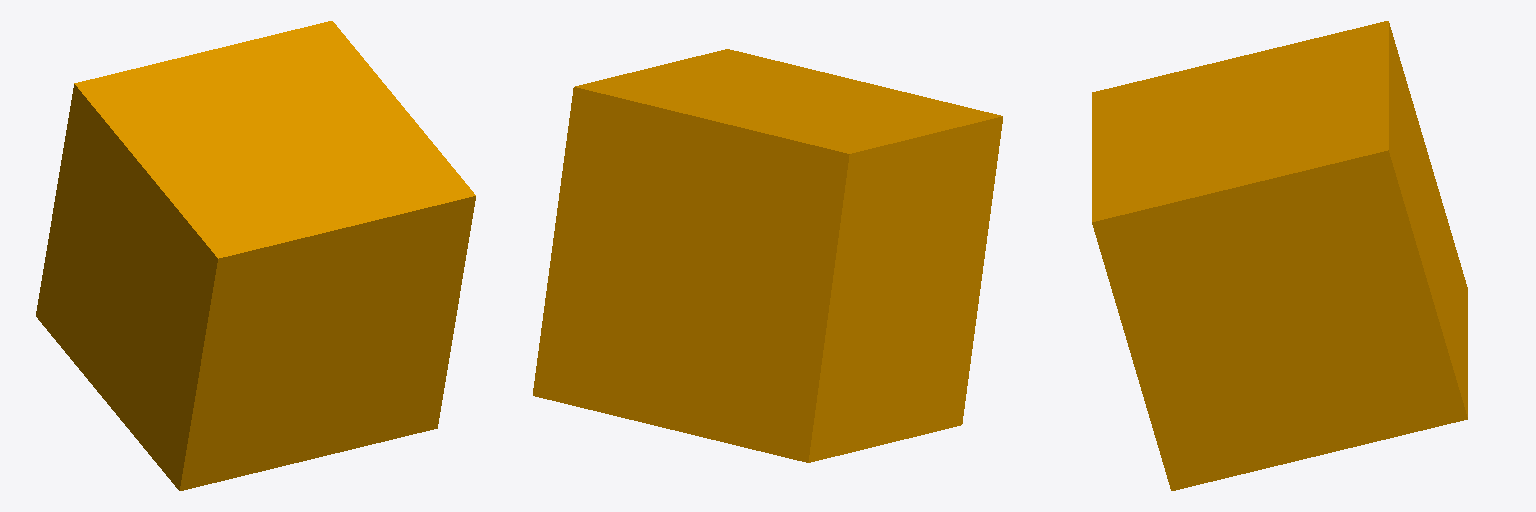
robot.urdf — plataforma:
<?xml version="1.0"?>
<robot name="plataforma" static="1">

  <gazebo reference="">
    <static>True</static>
    <selfCollide>False</selfCollide>
  </gazebo>

  <link name="my_box">
    <inertial>
      <origin xyz="0 0 0.5"/> 
      <mass value="1.0" />
      <inertia  ixx="1.0" ixy="0.0"  ixz="0.0"  iyy="1.0"  iyz="0.0"  izz="1.0" />
    </inertial>
    <visual>
      <origin xyz="0 0 0.5" rpy="0.2618 0 0"/> <!-- A 15º -->
      <geometry>
        <box size="1 1 1" />
      </geometry>
    </visual>
    <collision>
      <origin xyz="0 0 0.5"/>
      <geometry>
        <box size="1 1 1" />
      </geometry>
    </collision>
  </link>

  <gazebo reference="my_box">
    <material>Gazebo/Blue</material>
  </gazebo>
</robot>

--- Facts derived from the render (not from the file) ---
Views: 3 orthographic renders of the robot side by side, from view 1: azimuth 30°, elevation 25°; view 2: azimuth 150°, elevation 25°; view 3: azimuth 270°, elevation 25°.
Robot: plataforma — 1 links, 0 joints (none); root link my_box; default pose: every joint at zero.
Visible links, largest first — view 1: my_box; view 2: my_box; view 3: my_box.
Link boxes in pixels (x1,y1,x2,y2): my_box: [36, 21, 475, 490]; my_box: [533, 49, 1002, 462]; my_box: [1092, 21, 1467, 490].
Size in the robot's own frame: 1 by 1.22 by 1.22 metres.
Geometry: primitives only (box / cylinder / sphere), no mesh files.